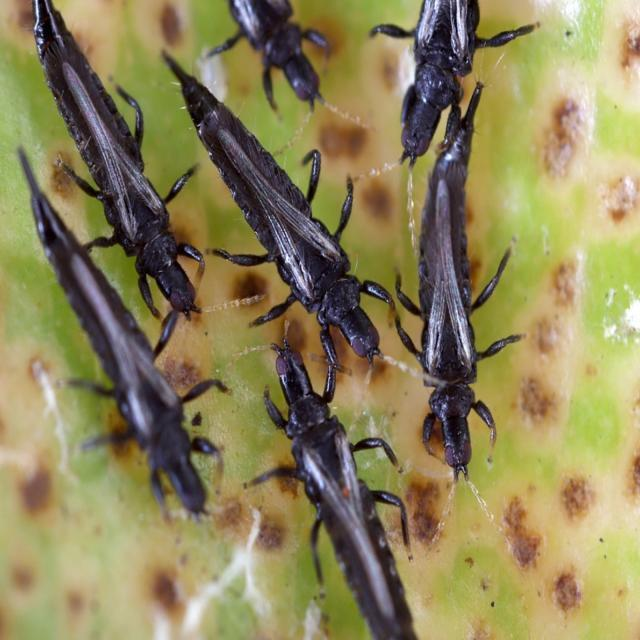Thrips: (1, 182, 246, 525), (185, 46, 407, 399), (1, 1, 211, 347), (386, 63, 541, 494), (256, 321, 431, 611)
